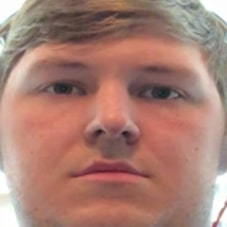awake: (20, 56, 209, 201)
